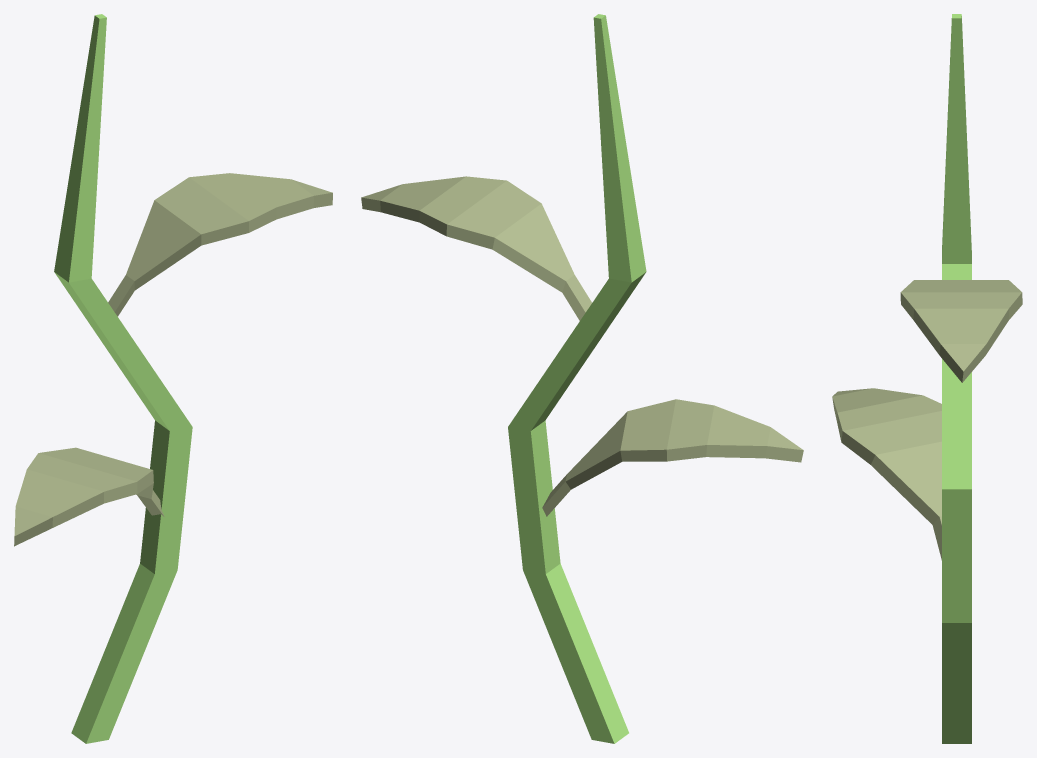
File: pumpkin_1.glb
3 views of the same model, side by side, from view 1: azimuth 30°, elevation 25°; view 2: azimuth 150°, elevation 25°; view 3: azimuth 270°, elevation 25° (orthographic).
Visible parts, largest first — view 1: Pumpkin_1; view 2: Pumpkin_1; view 3: Pumpkin_1.
Boxes of the visible parts, left/top/right/bottom form: Pumpkin_1: left=14, top=14, right=332, bottom=743; Pumpkin_1: left=361, top=14, right=803, bottom=743; Pumpkin_1: left=832, top=14, right=1022, bottom=743.
Size of the model in its own units: 0.217 by 0.3915 by 0.0929.
